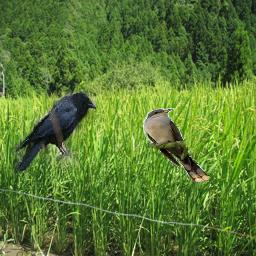Crow: (14, 91, 97, 173)
Cuckoo: (143, 108, 209, 182)
